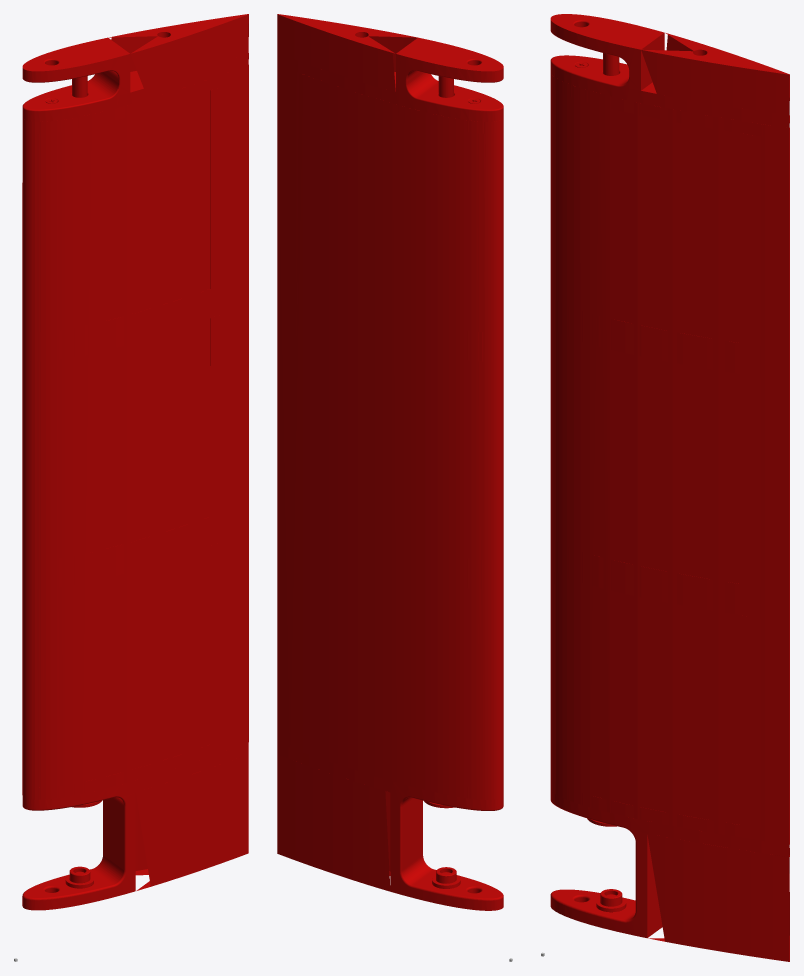
Rendered from trimtab.obj.
3 renders of one model, left to right at view 1: azimuth 30°, elevation 25°; view 2: azimuth 150°, elevation 25°; view 3: azimuth 330°, elevation 25°, orthographic. The views are drawn at different scales.
Parts seen in each view (by area): view 1: Trimtab_obj; view 2: Trimtab_obj; view 3: Trimtab_obj.
Part boxes in pixels (<box>): Trimtab_obj: <box>22,14,248,910</box>; Trimtab_obj: <box>277,14,503,910</box>; Trimtab_obj: <box>550,14,789,961</box>.
Bounding box in the file's own units: 209 × 757 × 36.1.
